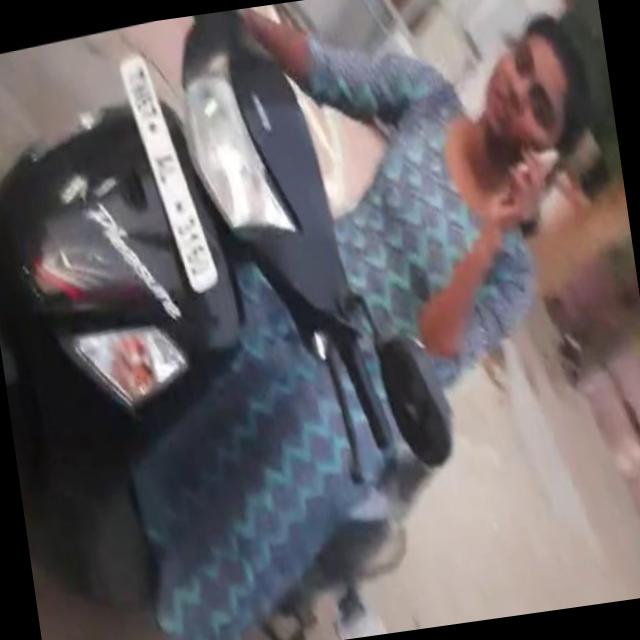USING_MOBILE: (383, 124, 600, 362)
